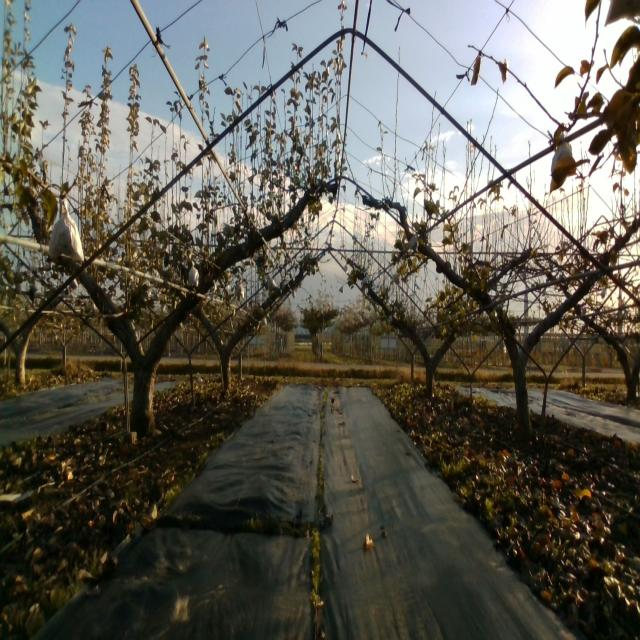pearbags: (48, 198, 84, 263), (550, 125, 574, 175), (188, 258, 200, 290), (404, 233, 420, 254), (233, 281, 244, 298)
